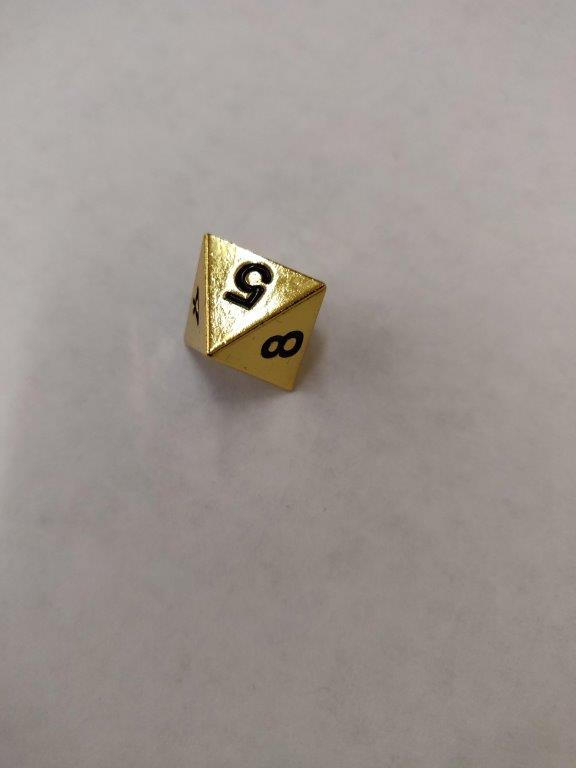d8-5: (176, 234, 329, 397)
